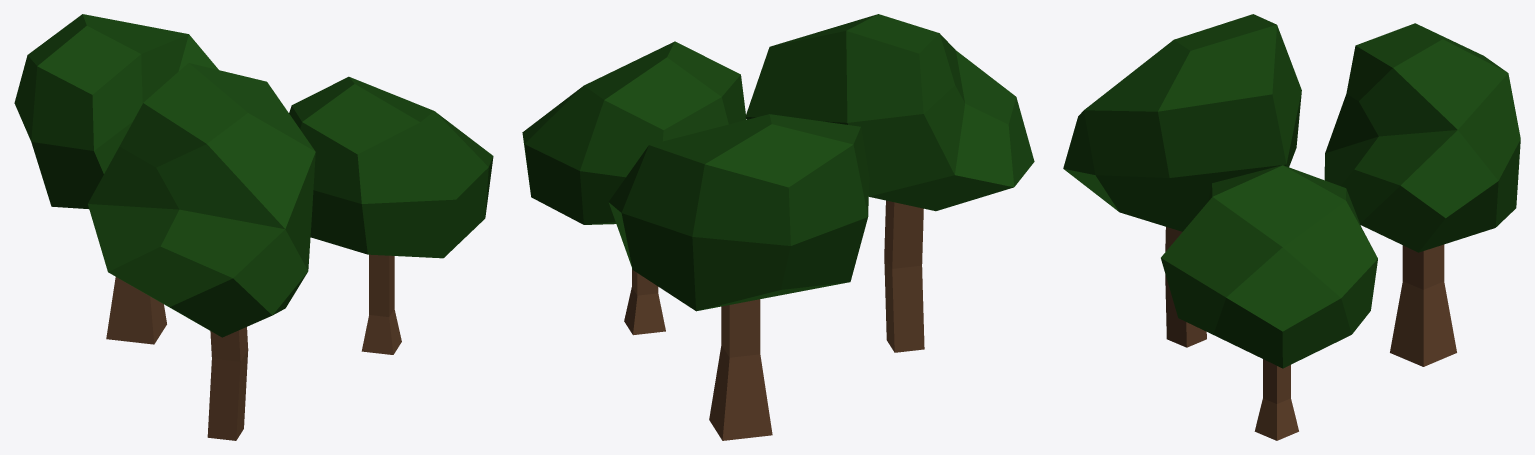
The model's file is tree_cluster_1.glb.
The picture shows the model from 3 angles, left to right: view 1: azimuth 30°, elevation 25°; view 2: azimuth 150°, elevation 25°; view 3: azimuth 270°, elevation 25°; orthographic projection. The views are drawn at different scales.
Parts seen in each view (by area): view 1: rock.003, rock.001, rock.002, Cylinder.002, Cylinder, Cylinder.001; view 2: rock.002, rock.003, rock.001, Cylinder.001, Cylinder.002, Cylinder; view 3: rock.002, rock.003, rock.001, Cylinder.001, Cylinder, Cylinder.002.
Boxes of the visible parts, box(x1,y1,x2,y2) form: rock.003: box(88, 63, 315, 337); rock.001: box(289, 76, 493, 258); rock.002: box(14, 14, 218, 208); Cylinder.002: box(207, 327, 248, 440); Cylinder: box(361, 254, 401, 354); Cylinder.001: box(106, 277, 166, 344); rock.002: box(608, 114, 869, 311); rock.003: box(745, 14, 1034, 211); rock.001: box(522, 41, 746, 224); Cylinder.001: box(709, 299, 772, 440); Cylinder.002: box(884, 200, 924, 352); Cylinder: box(624, 268, 665, 335); rock.002: box(1324, 23, 1520, 252); rock.003: box(1063, 14, 1301, 231); rock.001: box(1161, 165, 1377, 368); Cylinder.001: box(1390, 244, 1456, 366); Cylinder: box(1254, 359, 1298, 440); Cylinder.002: box(1165, 227, 1206, 347).
Bounding box in the file's own units: 0.8874 × 0.6595 × 0.857.
